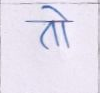o_matra: (59, 9, 71, 45)
